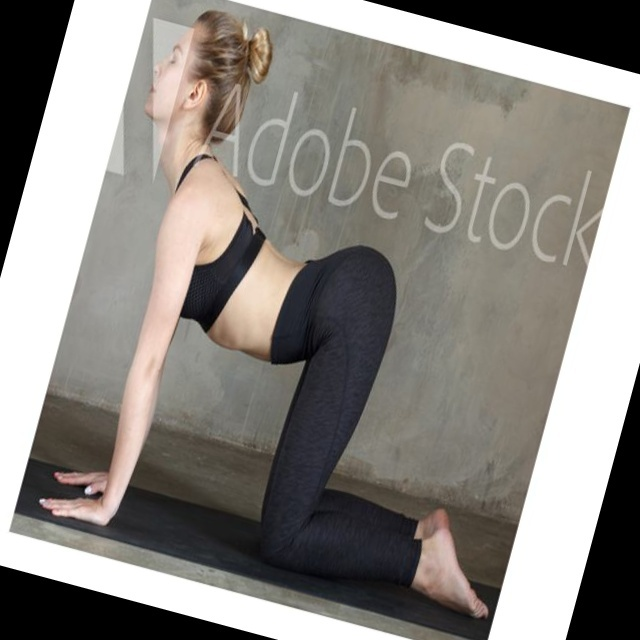Cow_Pose: (38, 10, 491, 618)
